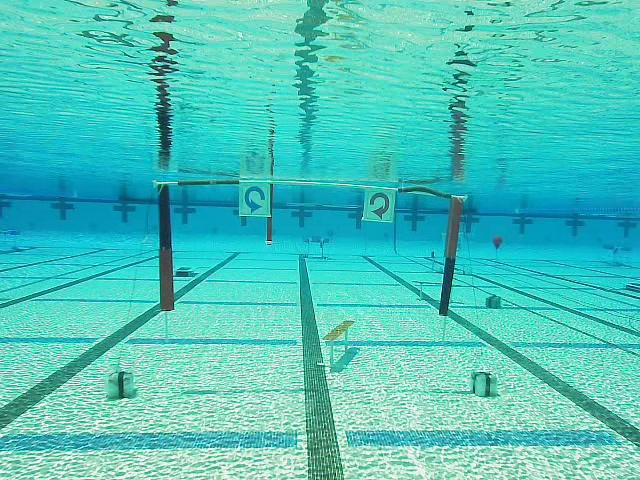buoy: (492, 235, 504, 252)
dropper: (174, 267, 198, 279)
gate: (155, 178, 466, 317)
gate_blue: (238, 182, 270, 217)
gate_leg_l: (155, 181, 175, 311)
gate_leg_r: (438, 194, 465, 316)
gate_red: (363, 188, 397, 222)
table: (303, 237, 329, 262)
